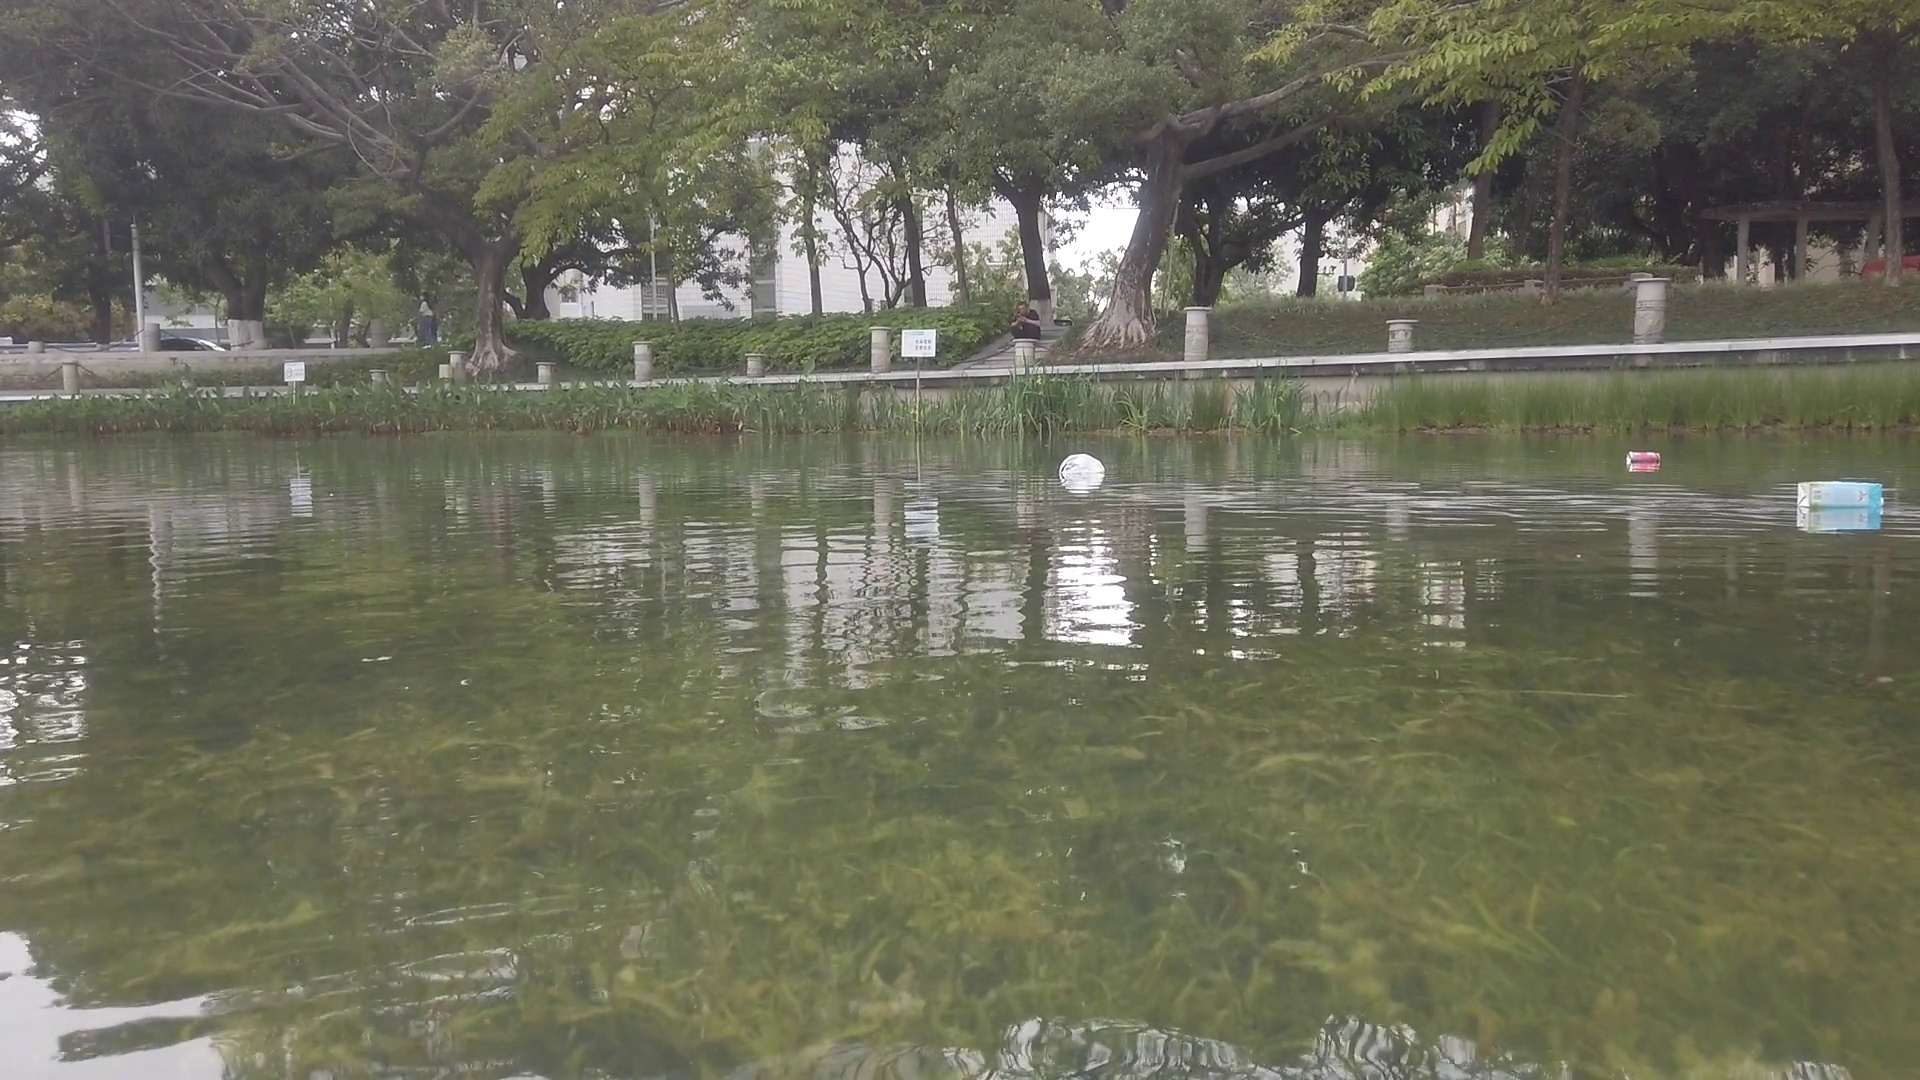bottle: (1629, 450, 1660, 465)
carton: (1797, 481, 1886, 512)
plastic: (1059, 456, 1106, 473)
